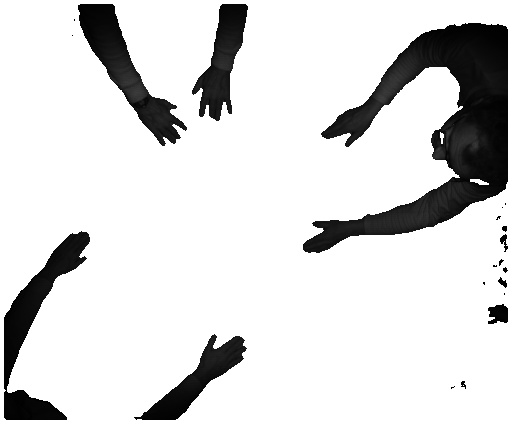hand: (136, 99, 190, 151), (47, 224, 95, 277), (320, 105, 375, 151), (202, 328, 247, 380), (296, 216, 354, 255), (193, 72, 231, 124)
